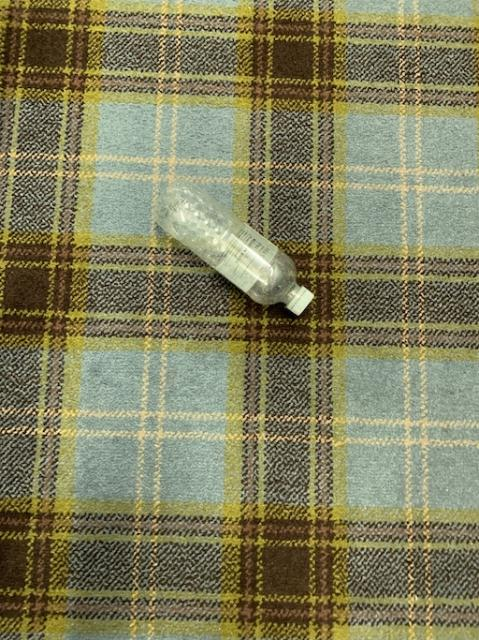plastic: (154, 178, 312, 314)
